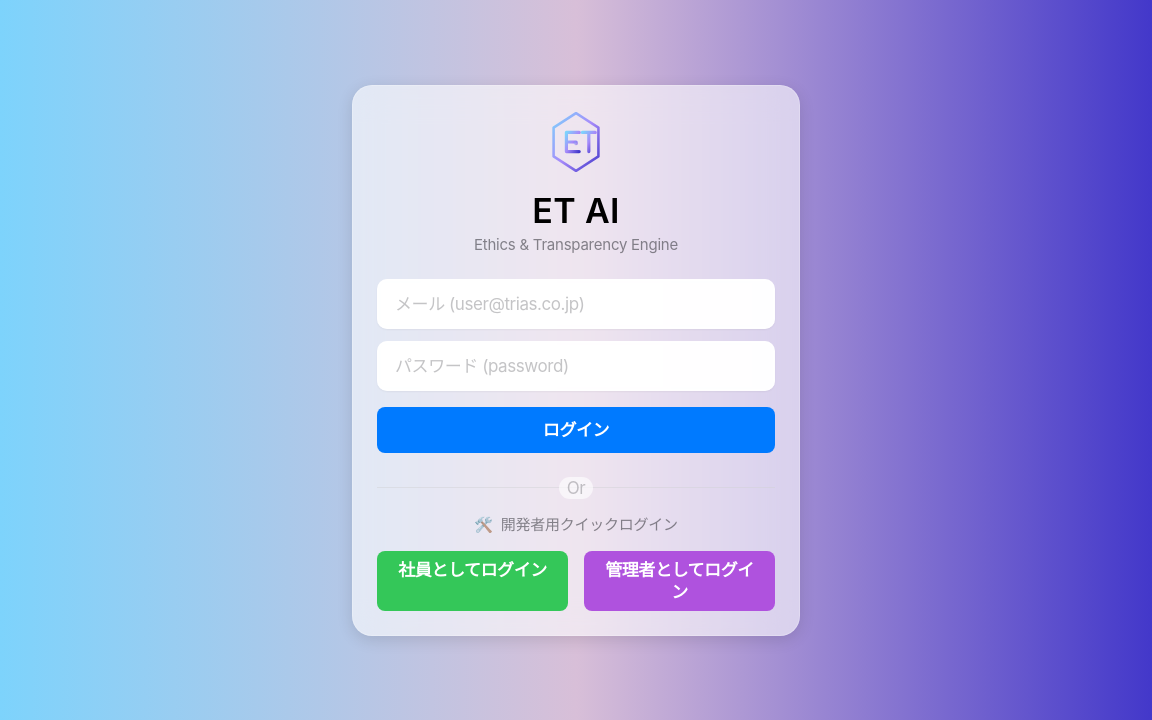
Test: Auth Component - User Authentication Experience › Error Handling - Specification: Users should see errors for invalid credentials › should show error for invalid domain
Type "user@gmail.com" into the field with placeholder "メール (user@trias.co.jp)" at (576, 304), box x1=377 y1=278 x2=775 y2=328
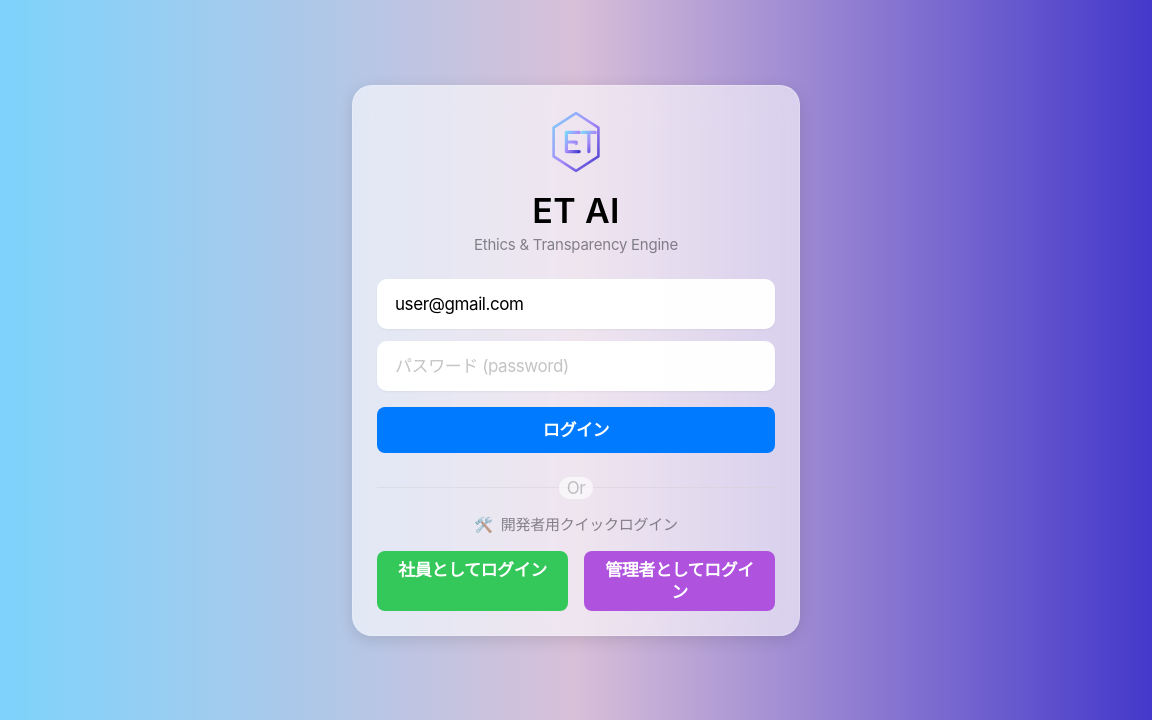
Type "password" into the password field with placeholder "パスワード (password)" at (576, 366), box x1=377 y1=340 x2=775 y2=390
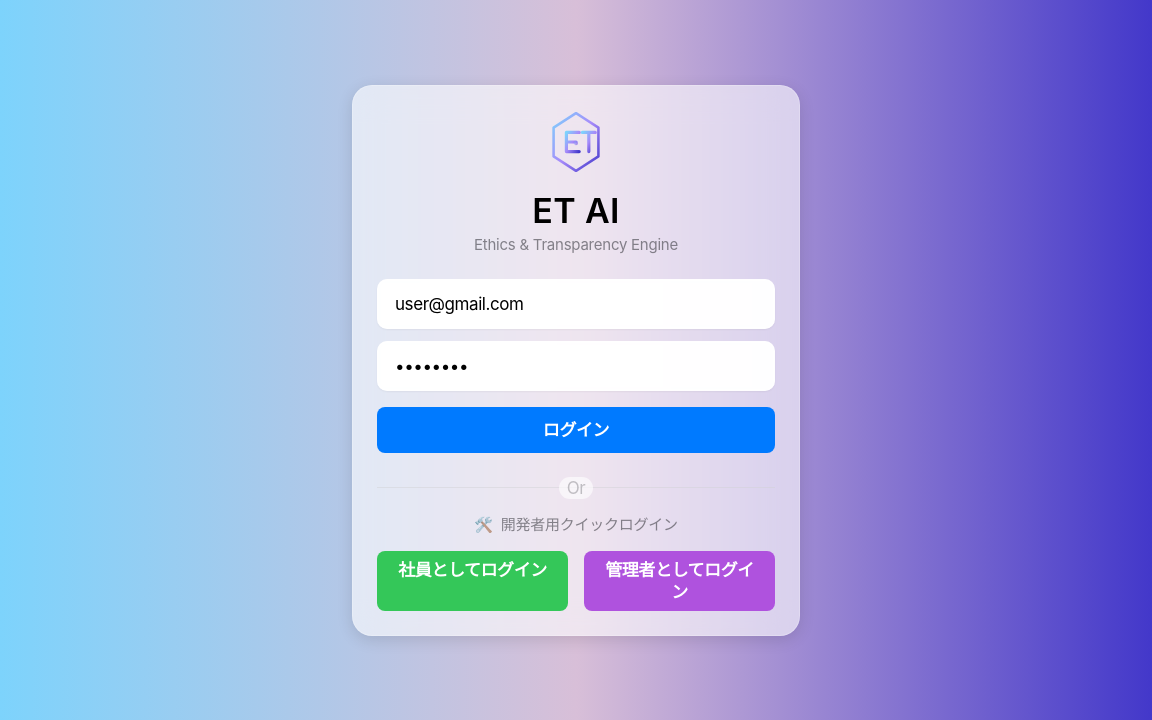
Click the button "ログイン" at (576, 430), box x1=377 y1=406 x2=775 y2=452
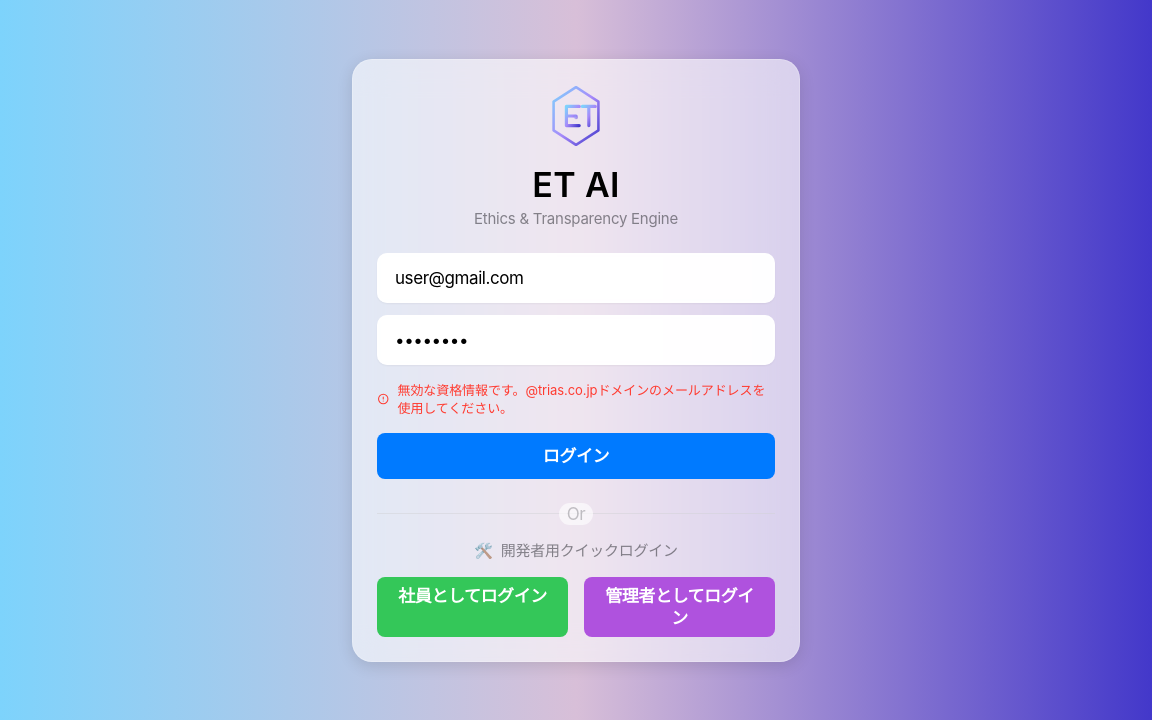
Check: the text "無効な資格情報です。@trias.co.jpドメインのメールアドレスを使用してください。" is shown, box x1=398 y1=380 x2=775 y2=416
